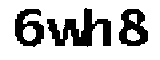6: (13, 6, 46, 48)
8: (115, 6, 152, 52)
h: (84, 5, 114, 51)
w: (46, 17, 84, 55)
